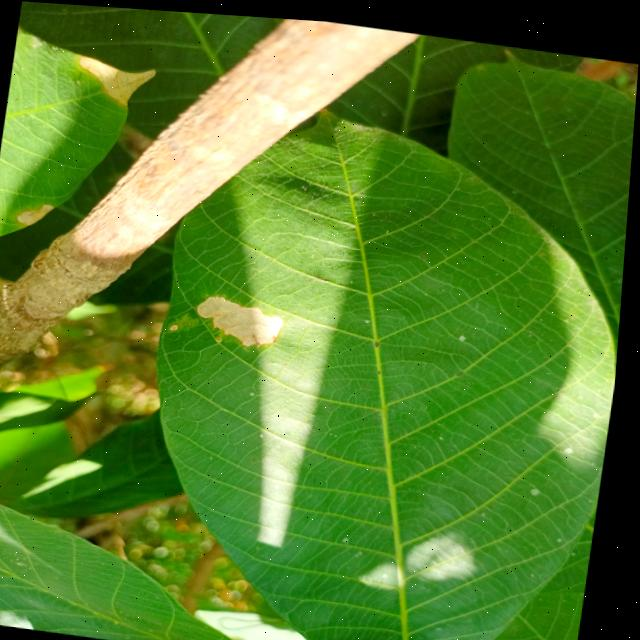Colletotrichum: (197, 290, 291, 347)
